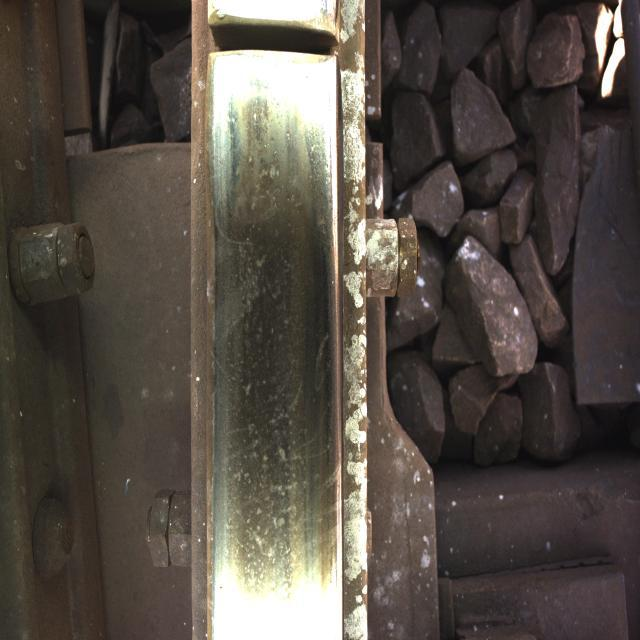spalling: (177, 0, 357, 92)
